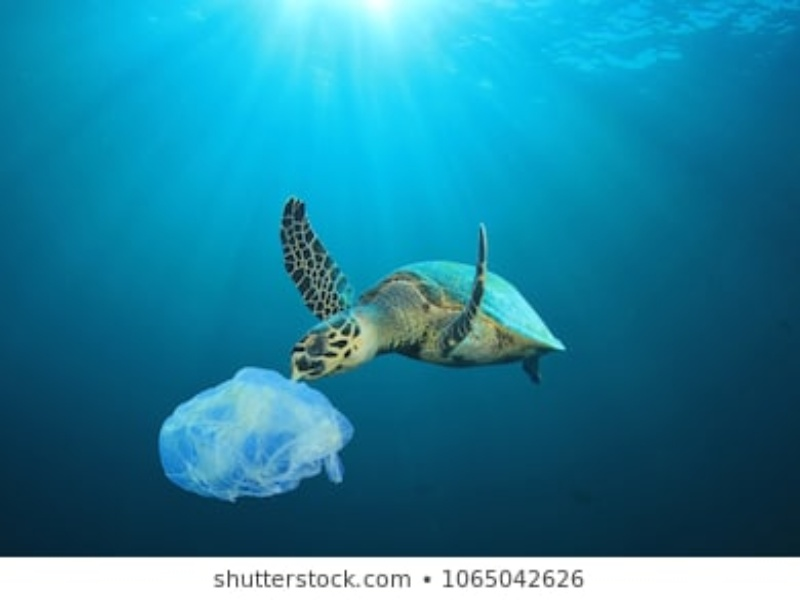plastic-bag: (148, 366, 355, 505)
